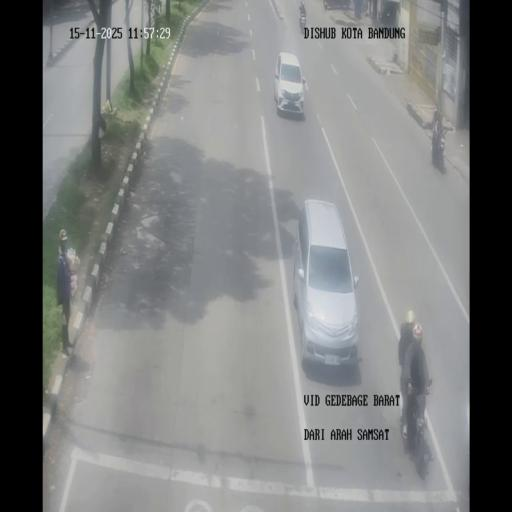car: (294, 200, 360, 370), (274, 51, 304, 115)
motorcycle: (401, 381, 435, 477), (430, 116, 450, 169), (298, 9, 306, 35), (361, 0, 368, 16)
truck: (323, 0, 351, 10)
